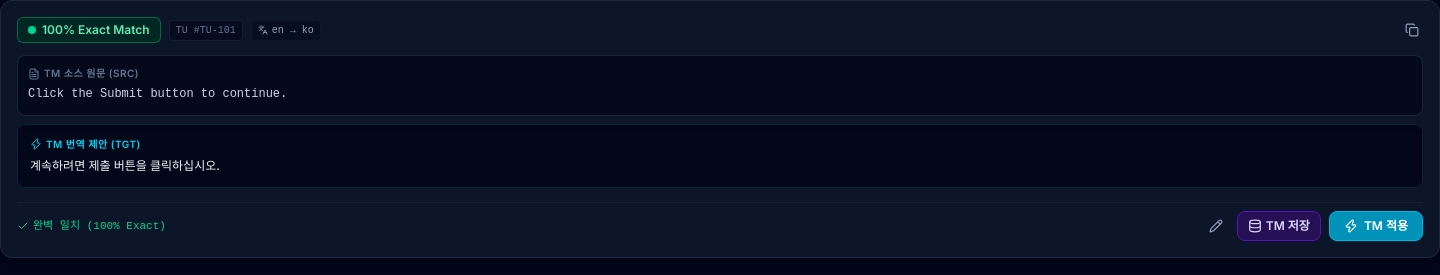
Test case: TMMatchCard Component › disables TM saving and ignores a second click while sentence segmentation is pending
Click the button with test id "tm-save-btn".
click(1279, 226)  # box [1237,211,1321,241]
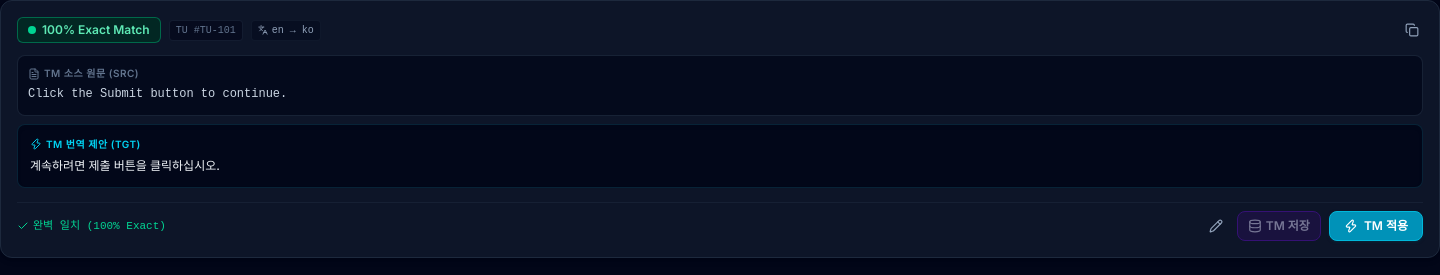
Result: the button with test id "tm-save-btn" is disabled
Click the button with test id "tm-save-btn".
click(1279, 226)  # box [1237,211,1321,241]
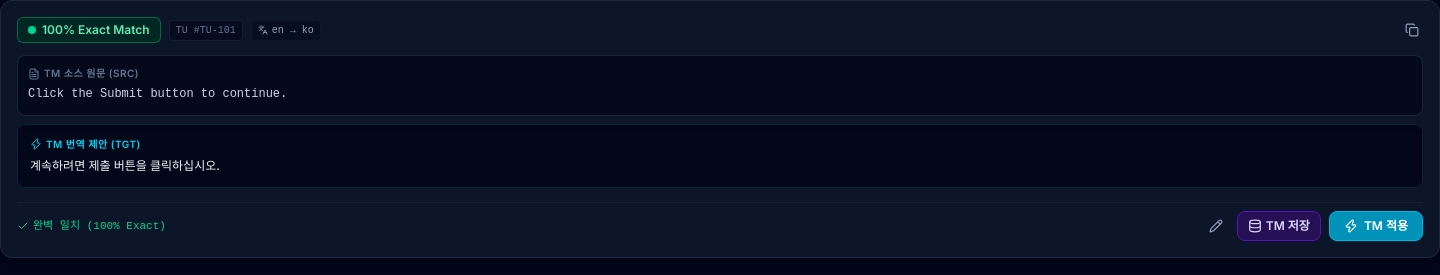
Result: the button with test id "tm-save-btn" is enabled at [1237,211,1321,241]
